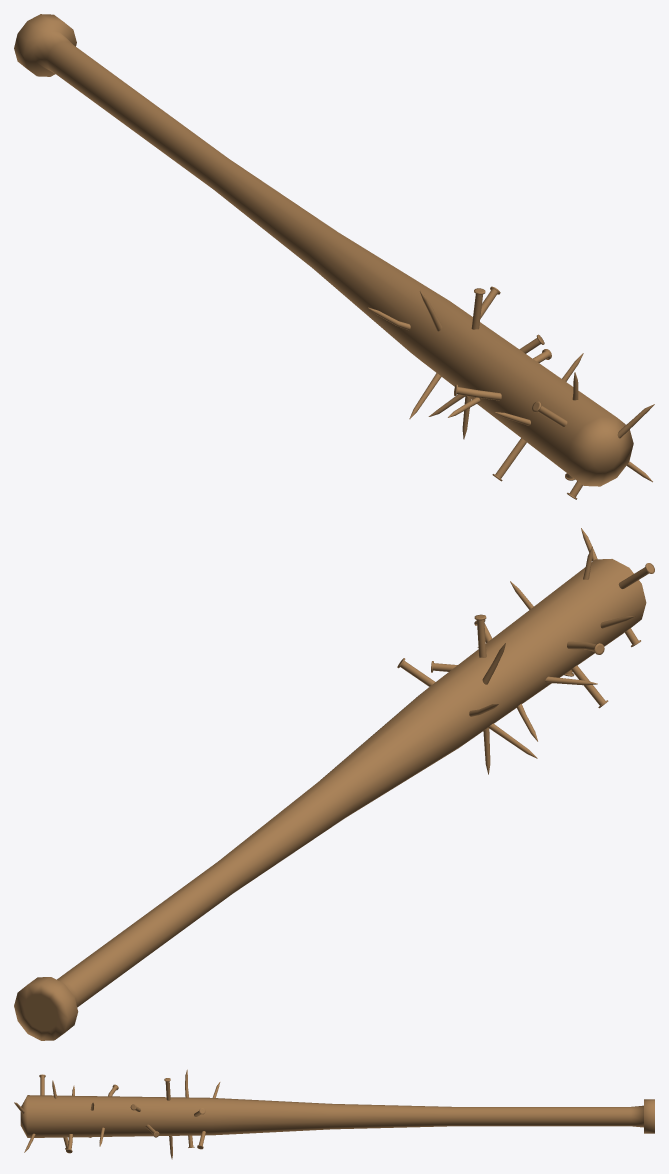
The model's file is baseBallBat_LP.fbx.
3 renders of one model, top to bottom at view 1: azimuth 30°, elevation 25°; view 2: azimuth 150°, elevation 25°; view 3: azimuth 270°, elevation 25°, orthographic. The views are drawn at different scales.
Visible parts, largest first — view 1: baseBallBat_LP; view 2: baseBallBat_LP; view 3: baseBallBat_LP, Nail7_LP, Nail3_LP.
Boxes of the visible parts, x1,y1,x2,y2 form: baseBallBat_LP: (14,14,633,486); baseBallBat_LP: (14,559,646,1040); baseBallBat_LP: (20,1095,654,1137); Nail7_LP: (164,1078,172,1159); Nail3_LP: (24,1074,45,1152).
Bounding box in the file's own units: 13.33 × 13.9 × 96.63.
